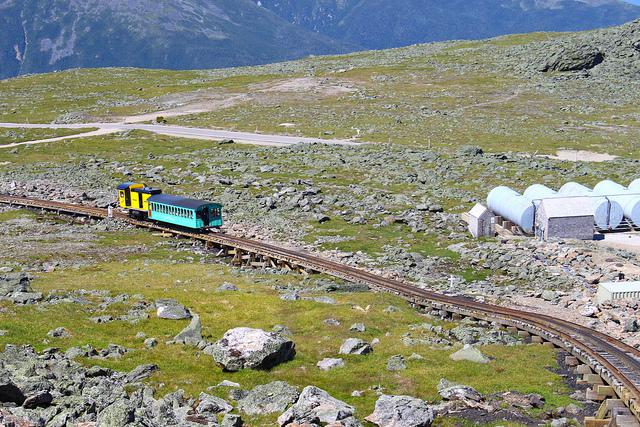Train: (118, 177, 225, 233)
